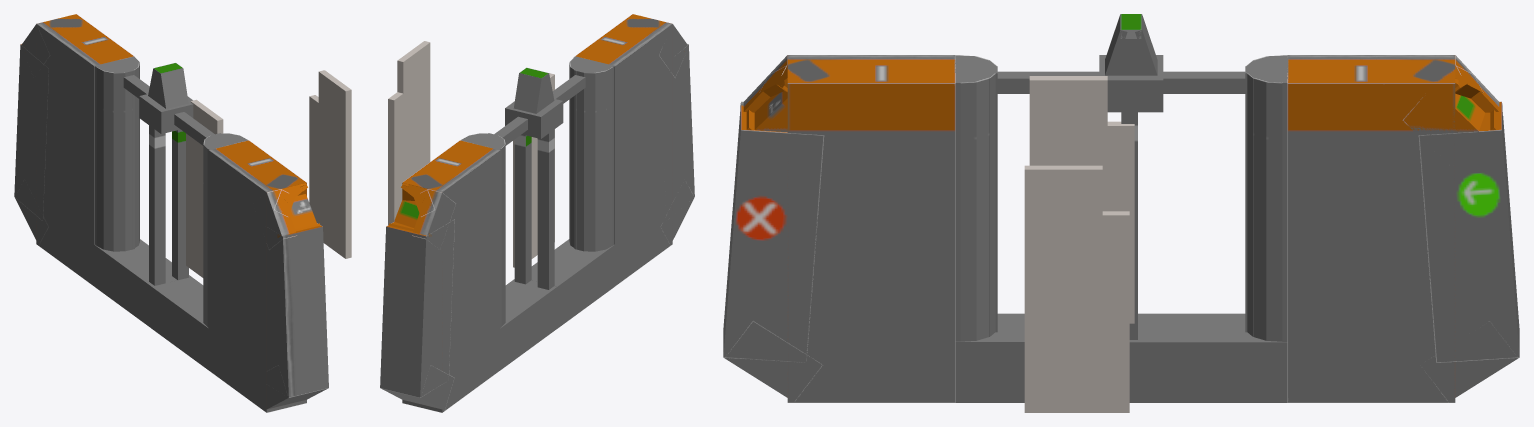
Rendered from arrive_gate_block_right_open.obj.
The picture shows the model from 3 angles, left to right: view 1: azimuth 30°, elevation 25°; view 2: azimuth 150°, elevation 25°; view 3: azimuth 270°, elevation 25°; orthographic projection. The views are drawn at different scales.
Visible parts, largest first — view 1: cube; view 2: cube; view 3: cube.
Boxes of the visible parts, x1,y1,x2,y2 form: cube: [14, 14, 351, 412]; cube: [380, 14, 694, 412]; cube: [723, 14, 1519, 412].
Size of the model in its own units: 1.04 by 1.51 by 2.96.
